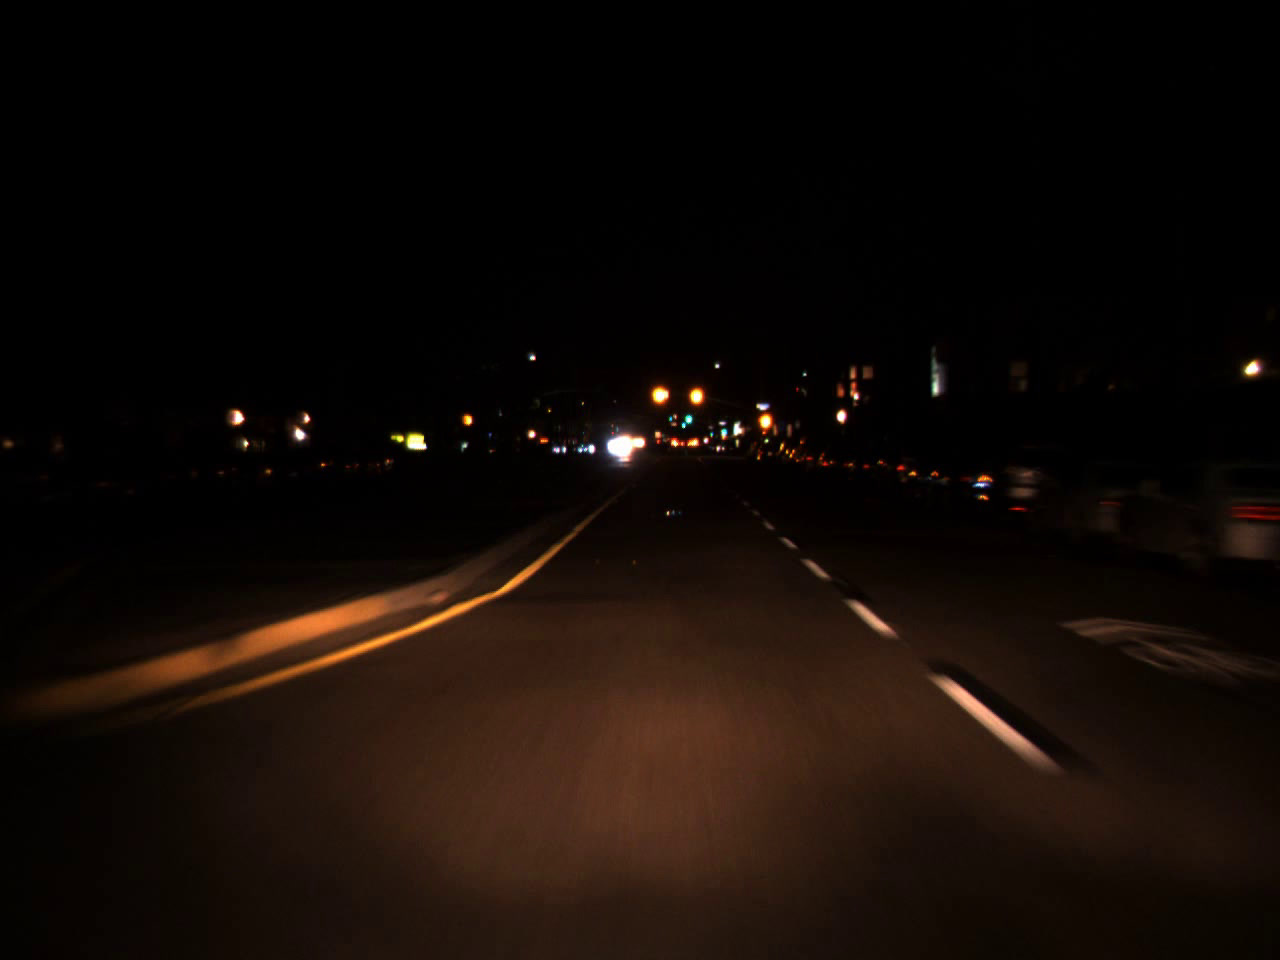go: (683, 405, 693, 426), (679, 416, 686, 428)
warning: (649, 376, 671, 413), (755, 401, 774, 441), (688, 377, 706, 414), (462, 409, 472, 429)
